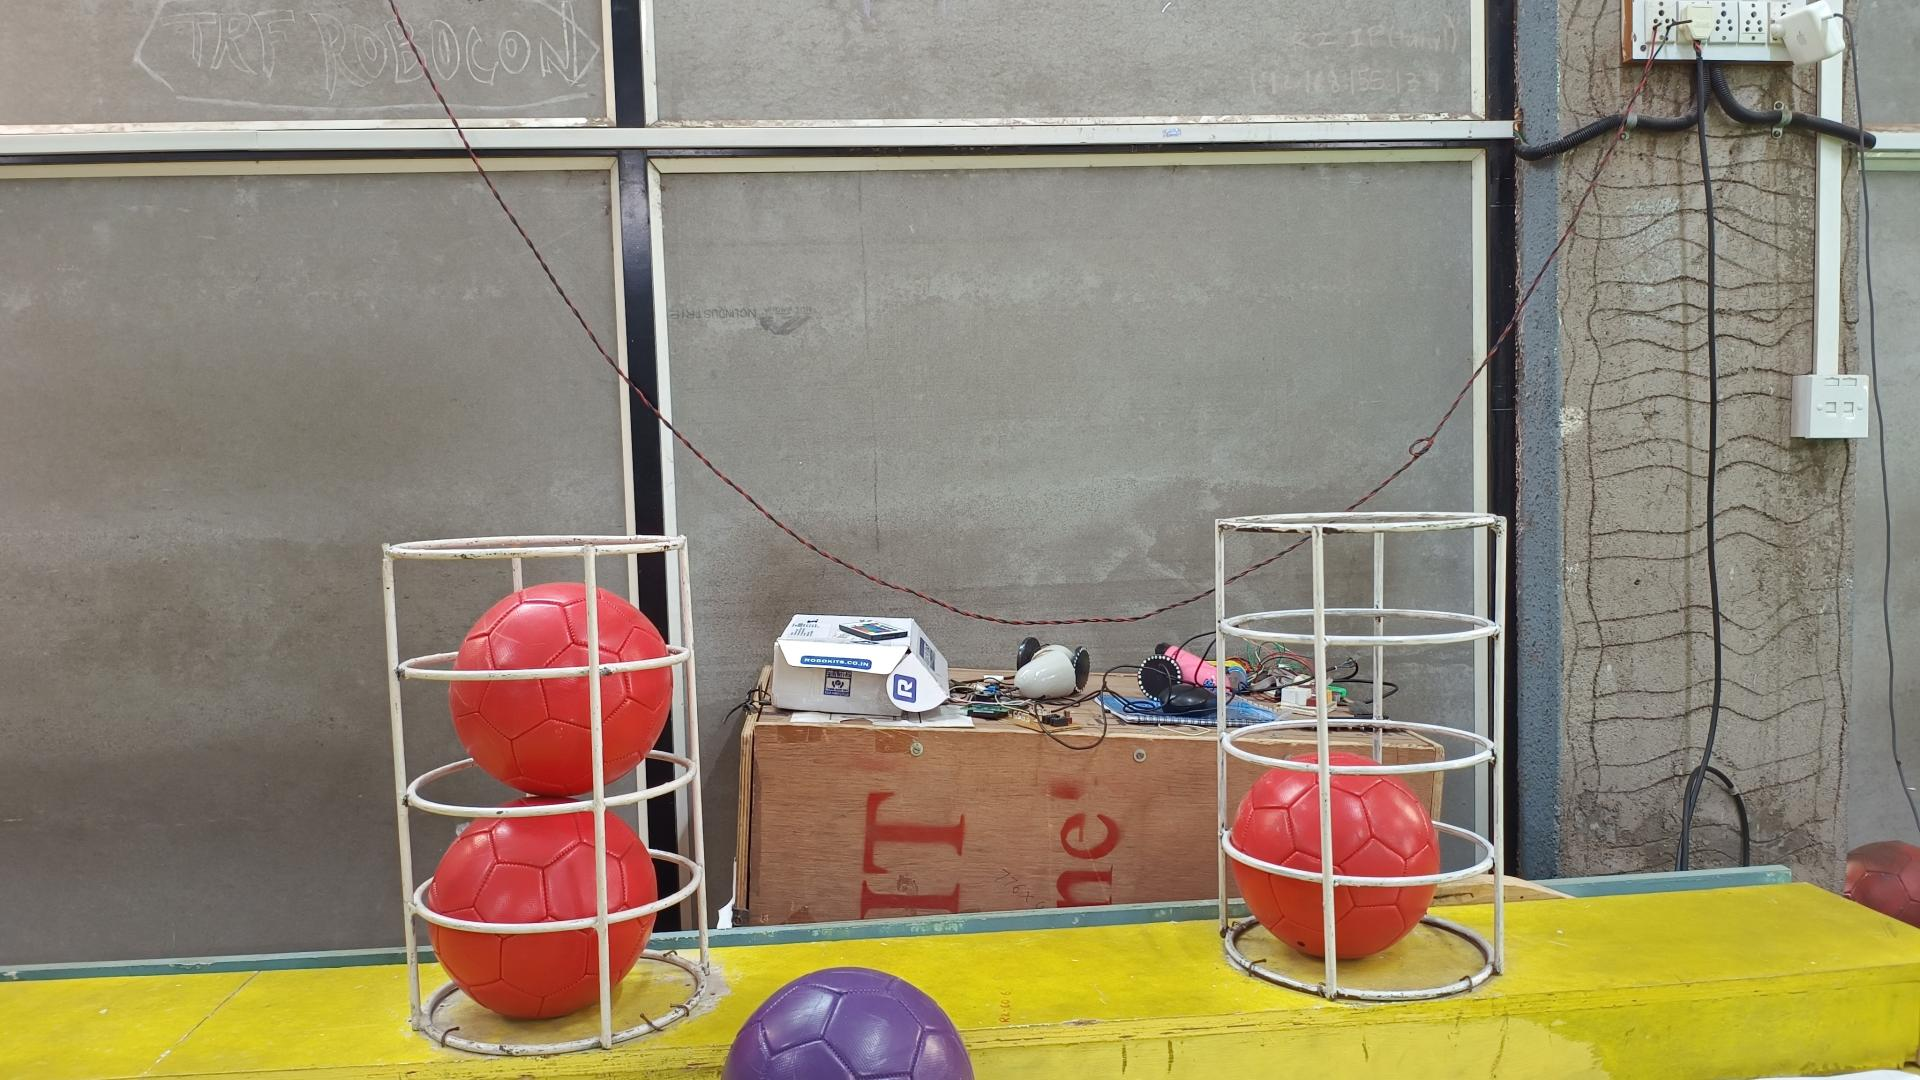laale: (423, 795, 659, 1021), (450, 582, 675, 799), (1230, 750, 1440, 960)
